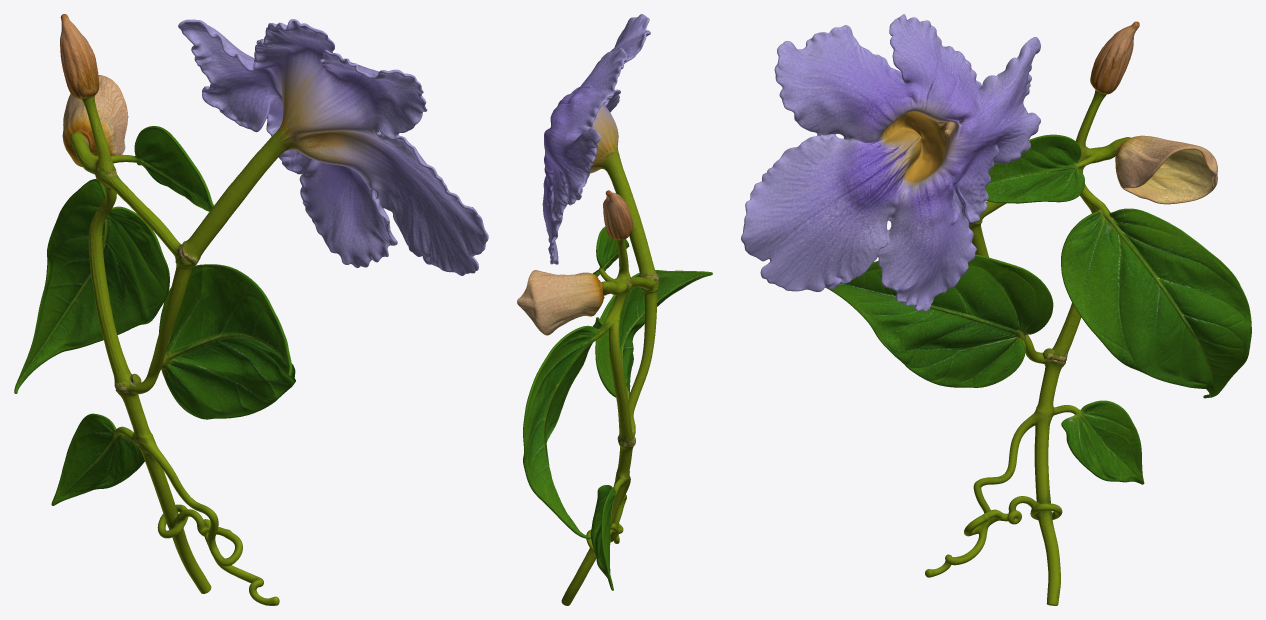
File: planta_morada.fbx
The picture shows the model from 3 angles, left to right: view 1: azimuth 30°, elevation 25°; view 2: azimuth 150°, elevation 25°; view 3: azimuth 270°, elevation 25°; orthographic projection. The views are drawn at different scales.
Parts seen in each view (by area): view 1: tripo_node_69bf25d0; view 2: tripo_node_69bf25d0; view 3: tripo_node_69bf25d0.
Boxes of the visible parts, x1,y1,x2,y2 form: tripo_node_69bf25d0: (14,14,488,605); tripo_node_69bf25d0: (517,14,712,605); tripo_node_69bf25d0: (741,14,1251,605).
Bounding box in the file's own units: 35.61 × 92.46 × 71.76.
Materials: 1 (1 with a texture image).
